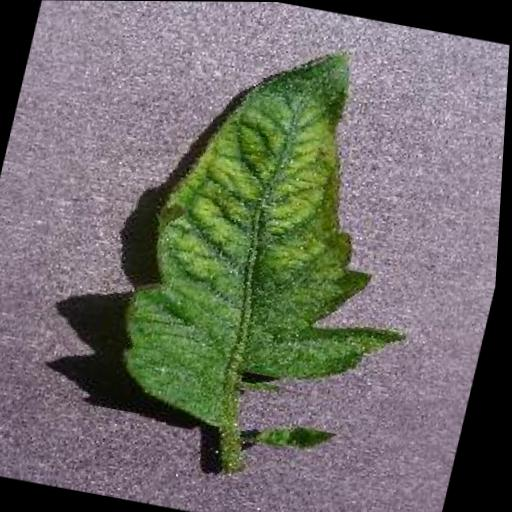Mosaic Virus: (101, 26, 469, 454)
